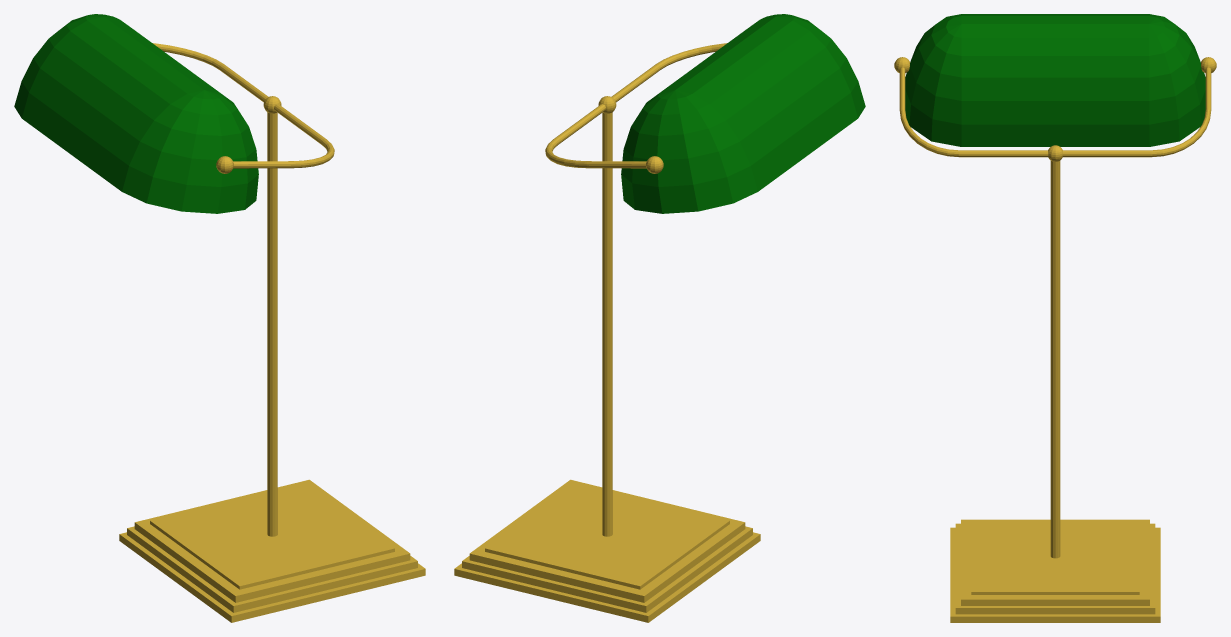
Rendered from bankerLamp.glb.
3 views of the same model, side by side, from view 1: azimuth 30°, elevation 25°; view 2: azimuth 150°, elevation 25°; view 3: azimuth 270°, elevation 25° (orthographic). The views are drawn at different scales.
Visible parts, largest first — view 1: Sphere.001; view 2: Sphere.001; view 3: Sphere.001.
Boxes of the visible parts, x1,y1,x2,y2 form: Sphere.001: (14, 14, 425, 622); Sphere.001: (454, 14, 865, 622); Sphere.001: (894, 14, 1216, 622).
Bounding box in the file's own units: 1.11 × 1.9 × 1.11.
